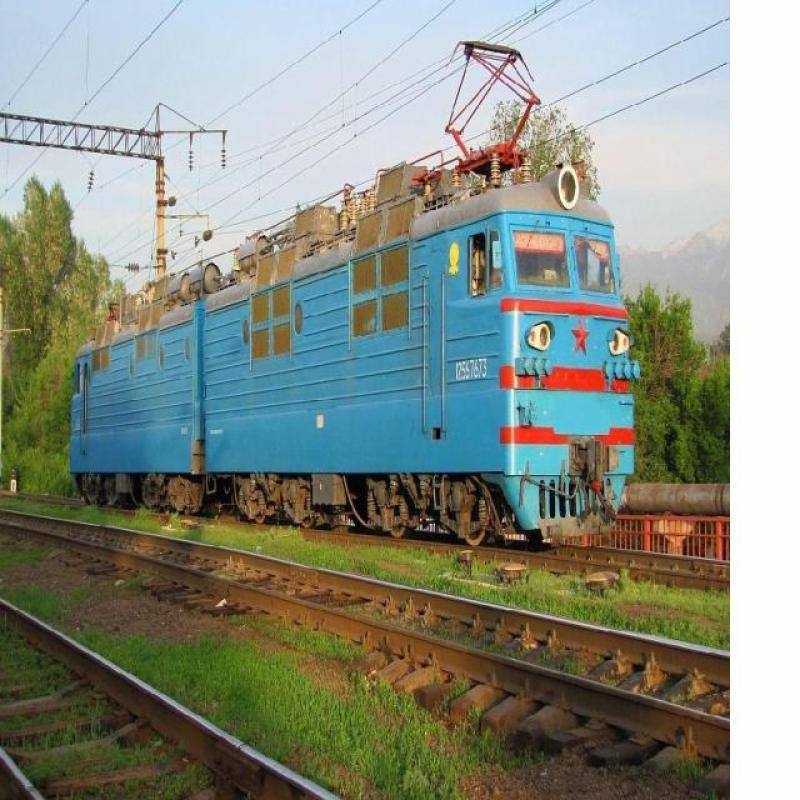train: (70, 161, 626, 532)
